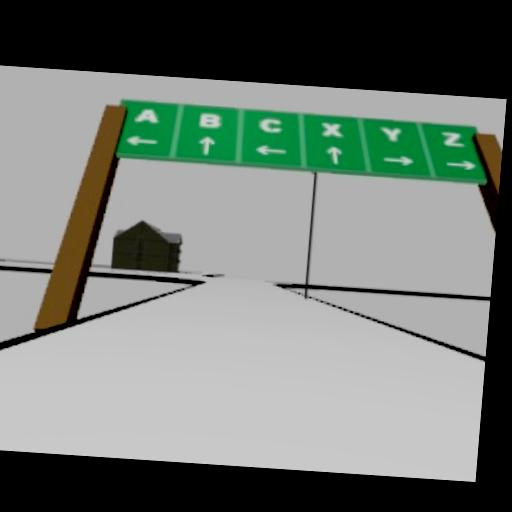A: (134, 107, 159, 122)
B: (197, 110, 222, 127)
C: (258, 114, 283, 131)
Left: (124, 132, 156, 146), (254, 143, 287, 155)
Right: (382, 153, 414, 165), (445, 157, 476, 169)
Straight: (197, 134, 216, 155), (324, 144, 343, 164)
X: (319, 120, 341, 135)
Y: (379, 124, 401, 141)
Z: (440, 128, 464, 145)
